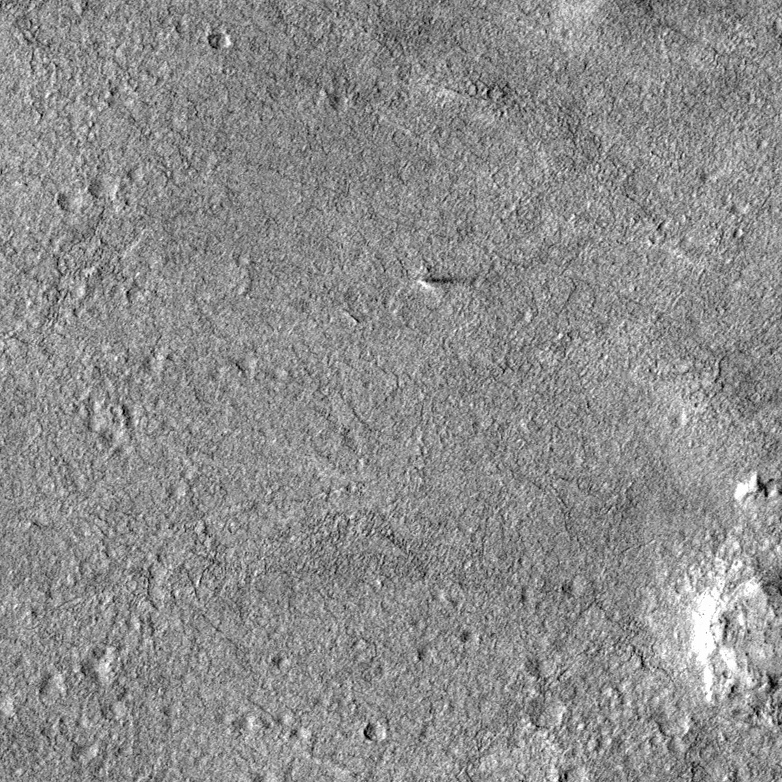dust_devil: (415, 272, 474, 292)
